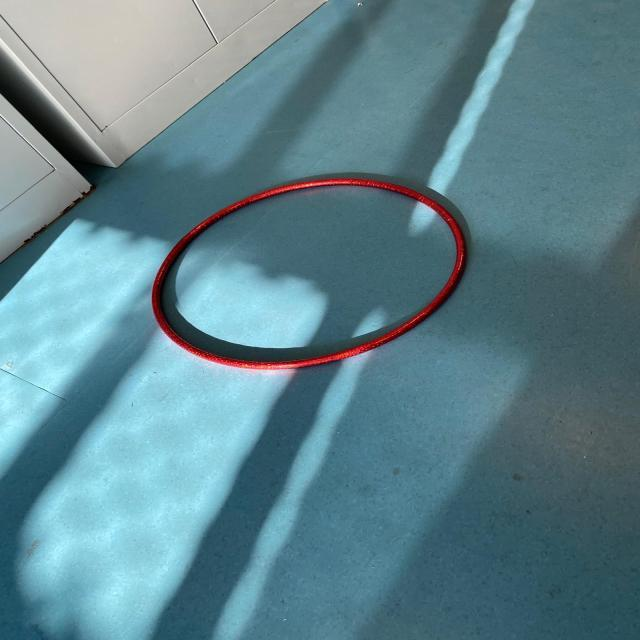Circle: (144, 170, 469, 374)
